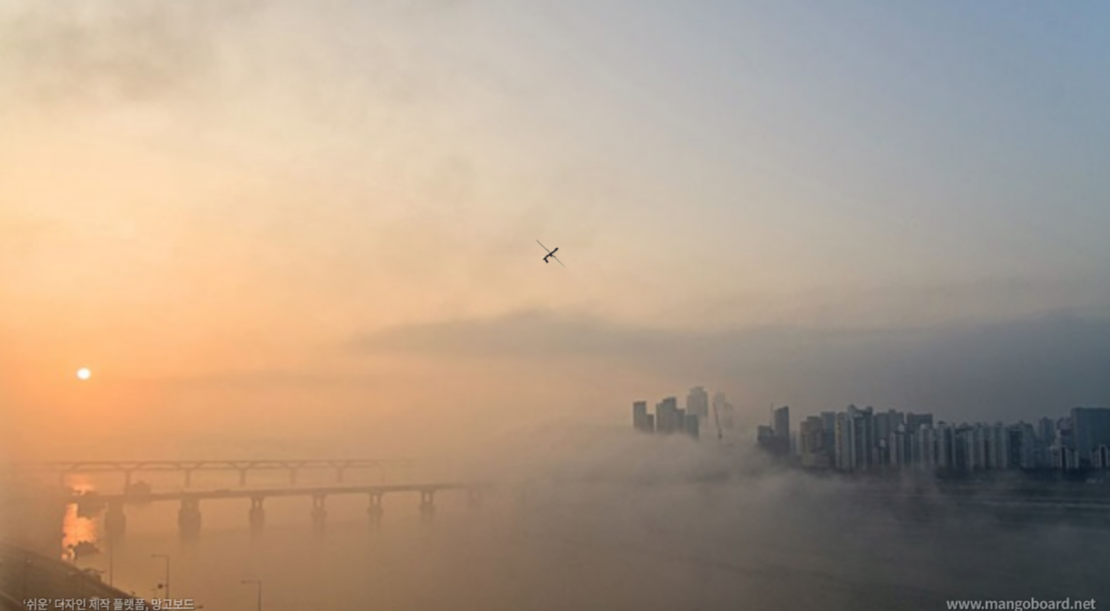military drone: (535, 238, 566, 269)
